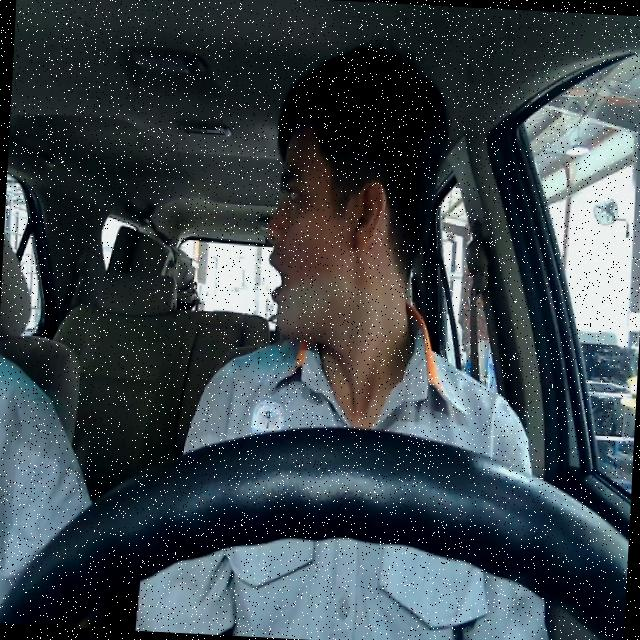yarning: (257, 118, 401, 345)
